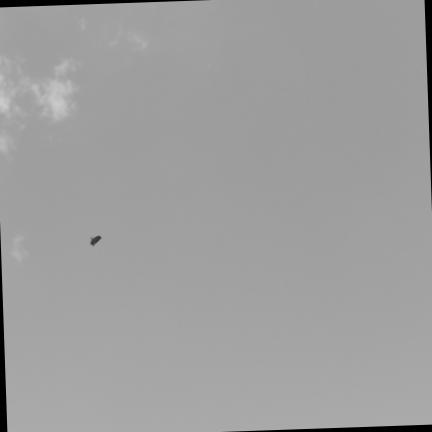Shahed: (91, 236, 101, 245)
